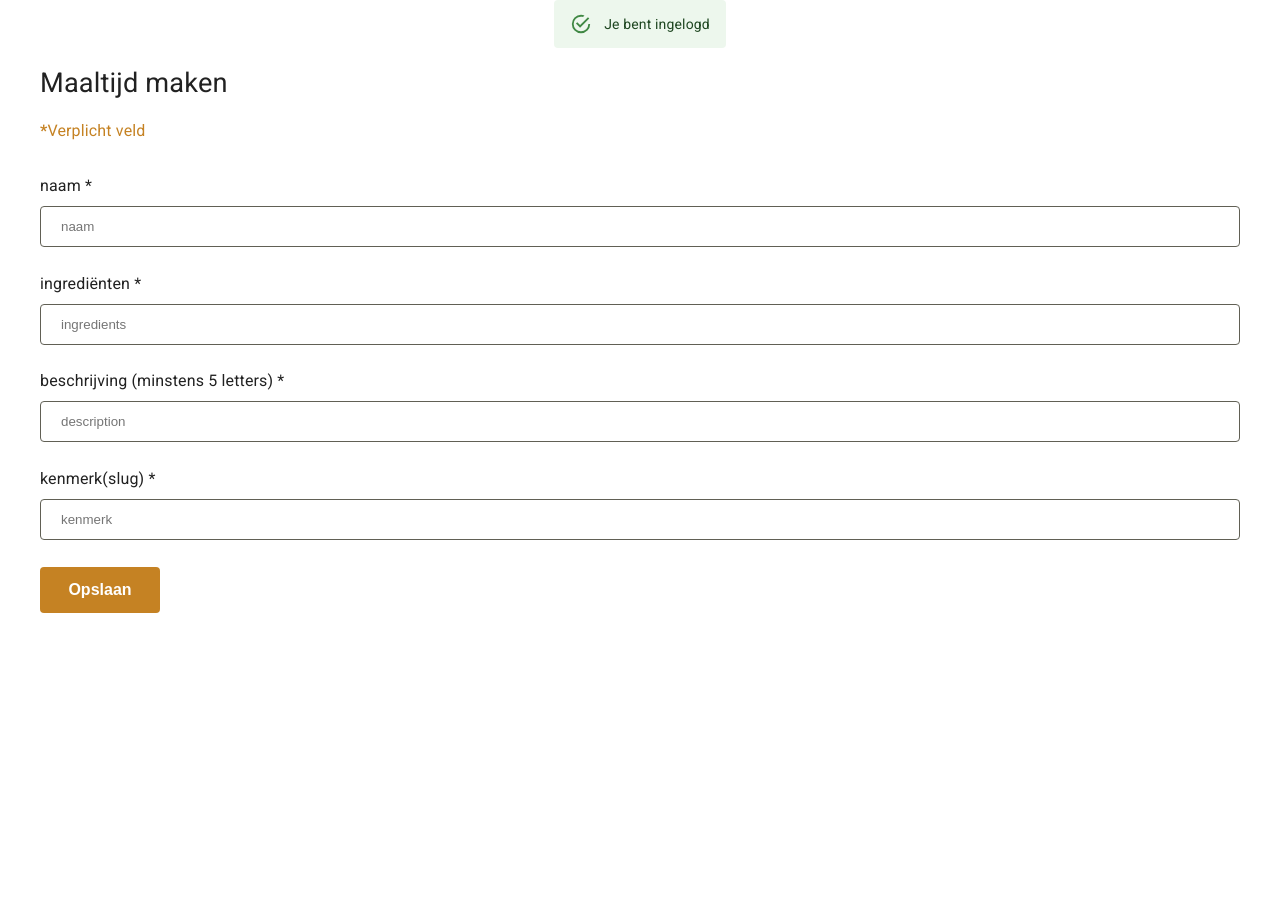
Scenario: FormCreateMeal POST request › sends POST request and shows success message
The image size is (1280, 900).
Type "Pizza" into the field labelled "naam" at (640, 226), box [40,206,1240,247]
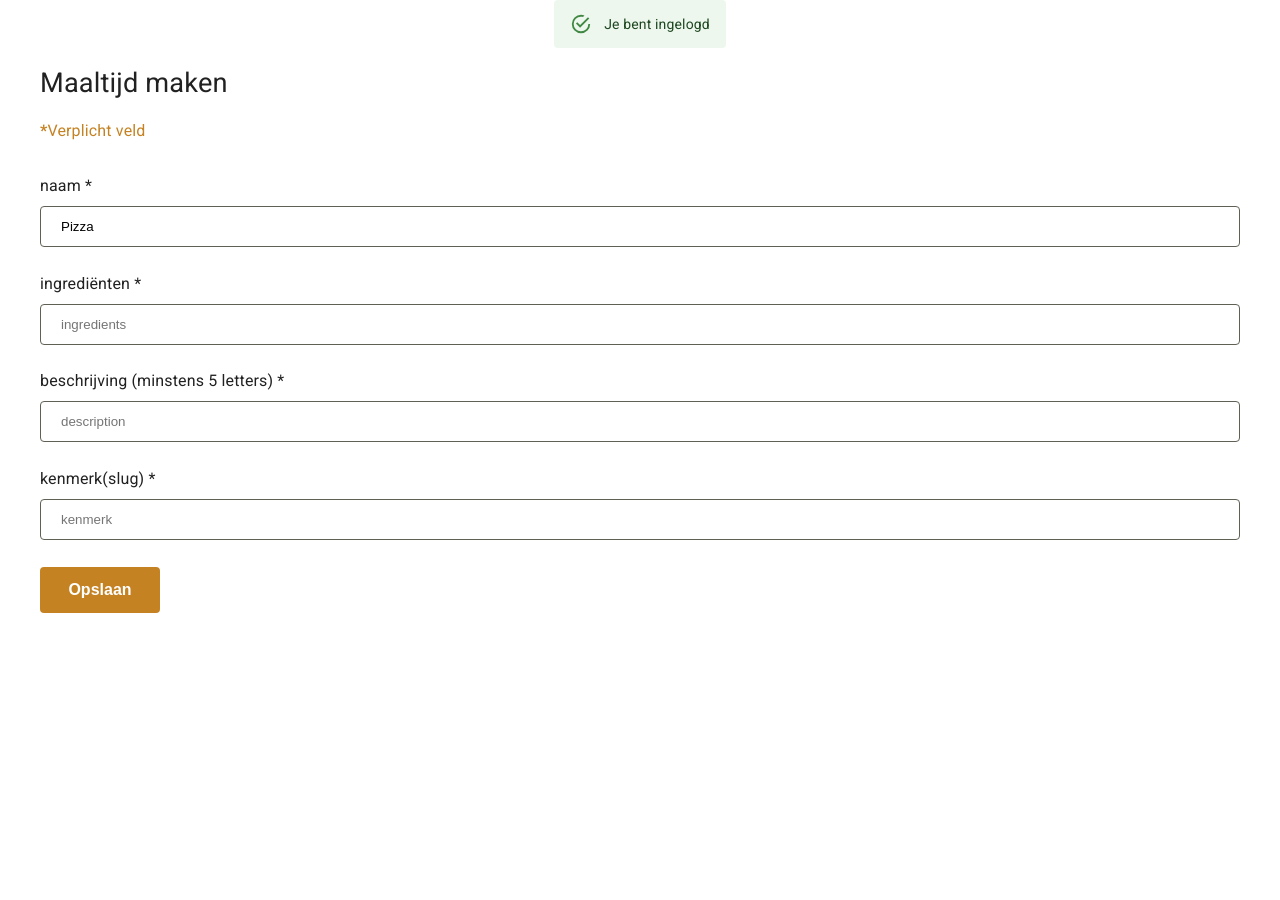
Type "kaas, tomaat" into the field labelled "ingrediënten" at (640, 324), box [40,304,1240,345]
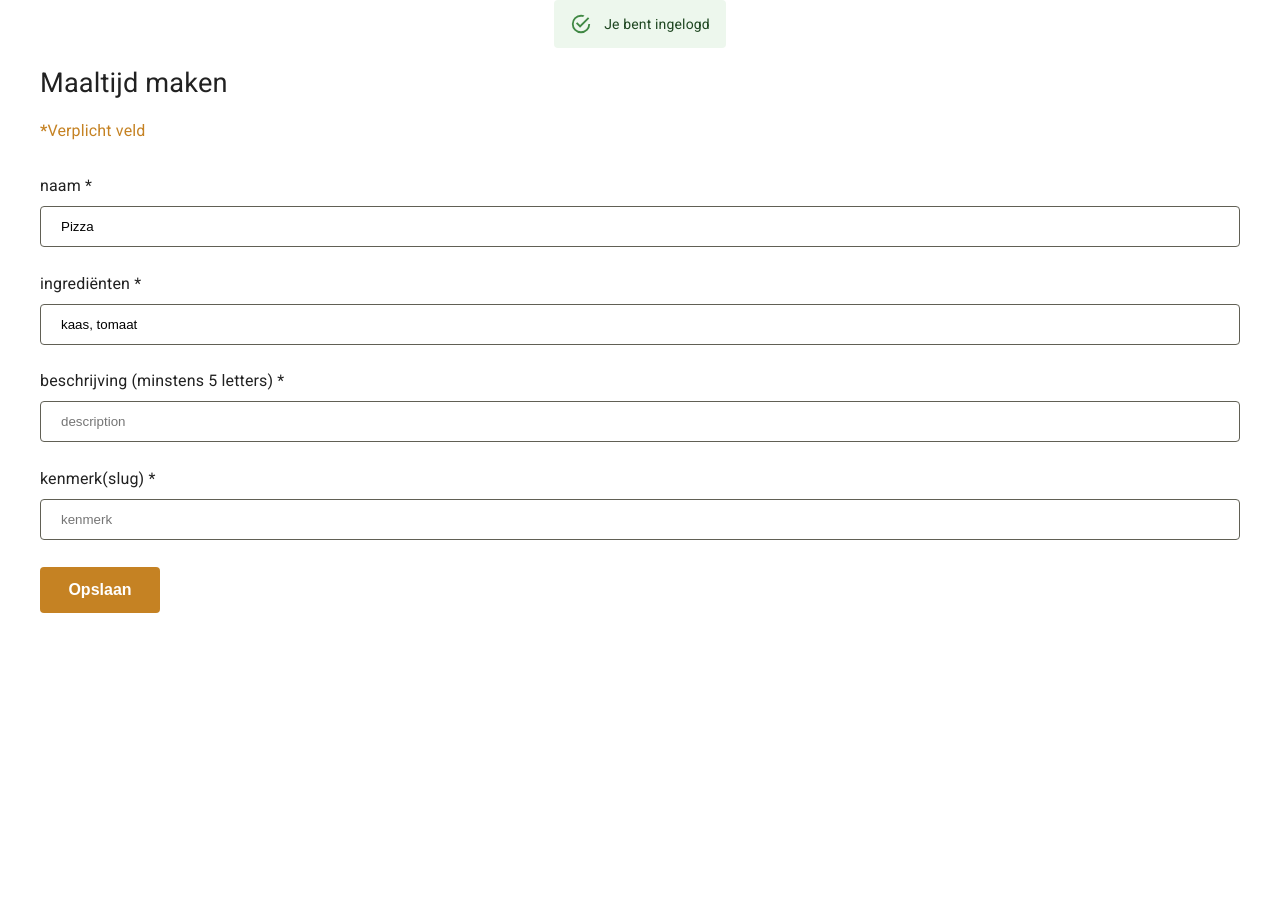
Type "Lekkere pizza" into the field labelled "beschrijving (minstens 5 letters)" at (640, 422), box [40,401,1240,442]
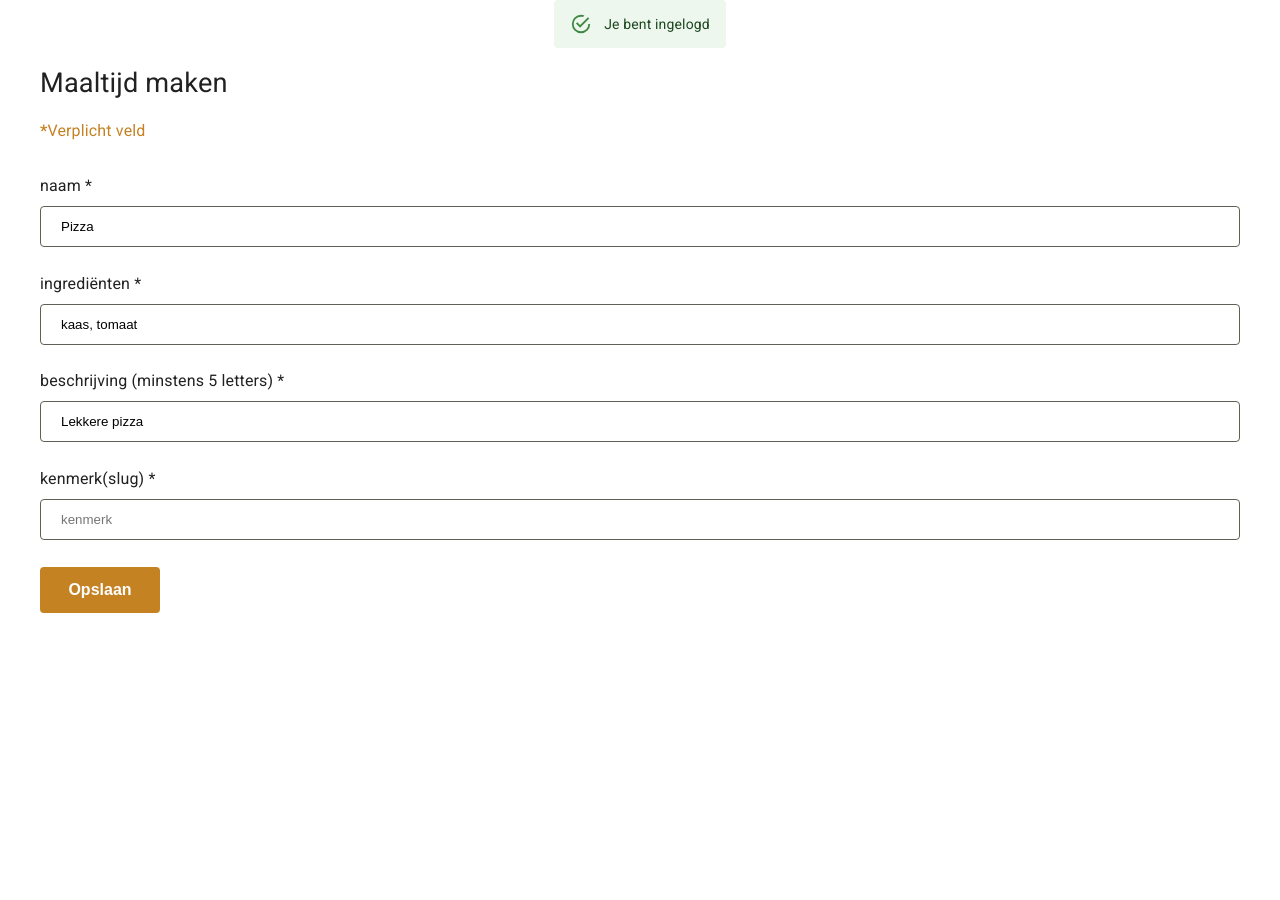
Type "pizza" into the field labelled "kenmerk(slug)" at (640, 520), box [40,499,1240,540]
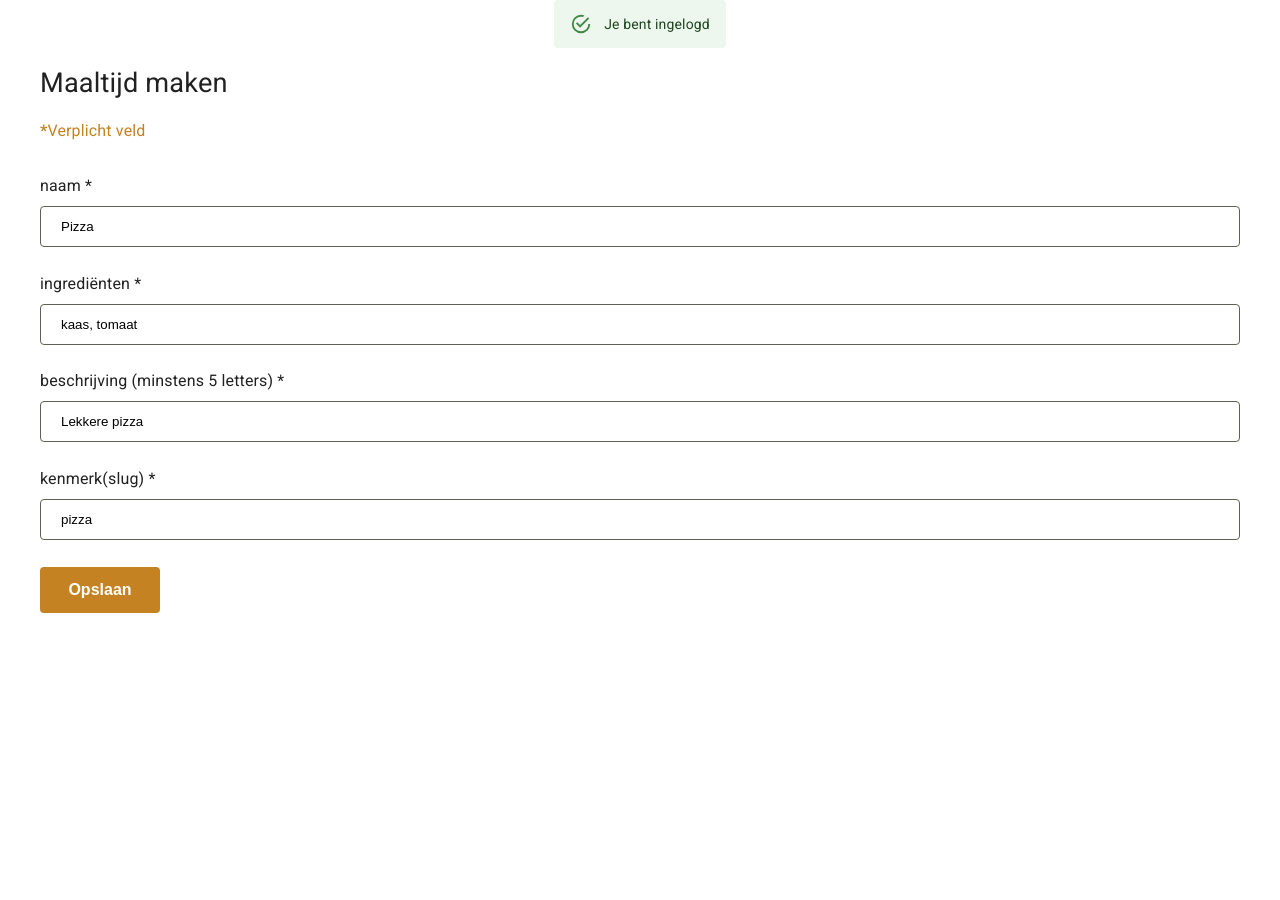
Click the button "Opslaan" at (100, 590), box [40,567,160,613]
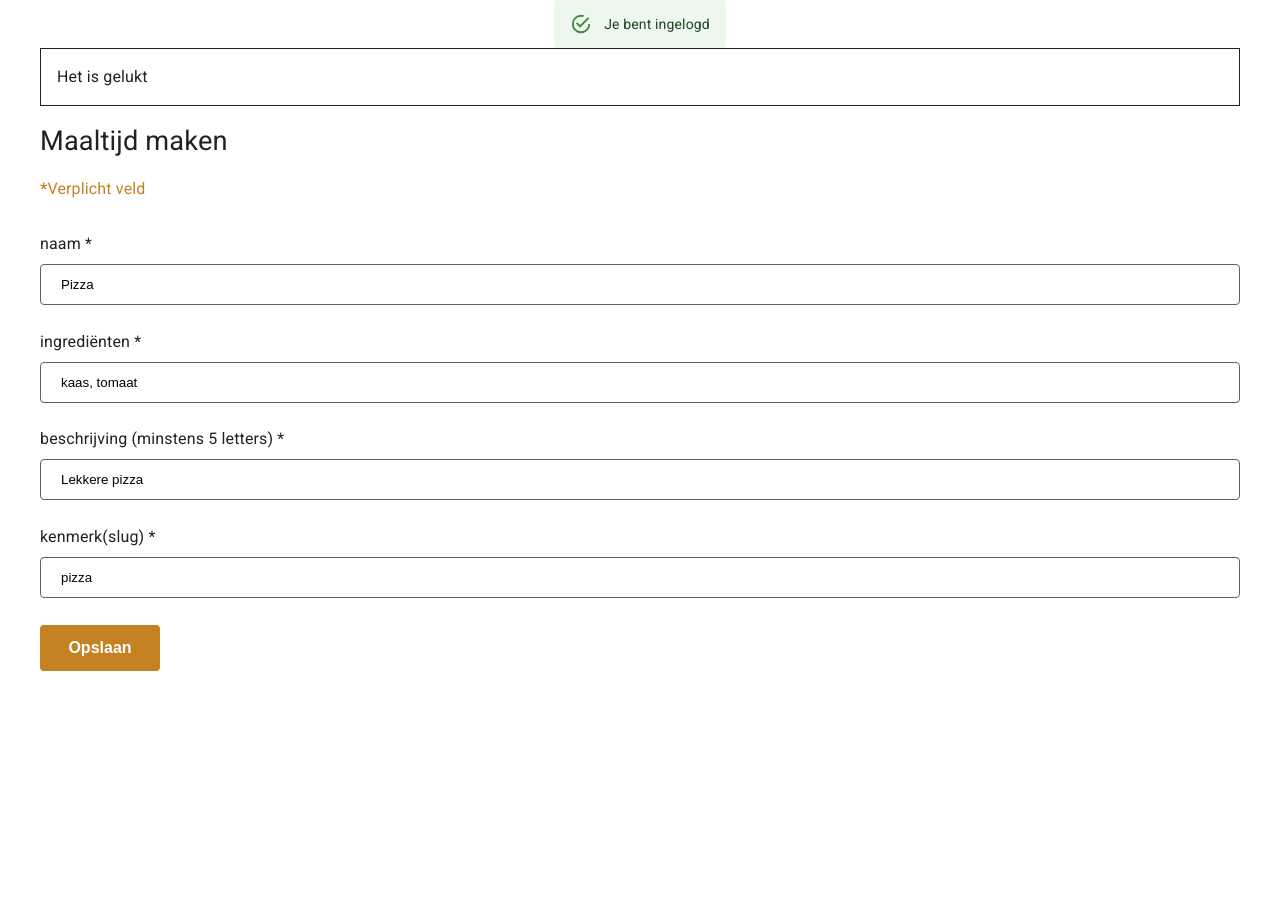
Expected: the text "Het is gelukt" is shown, [40,48,1240,106]
